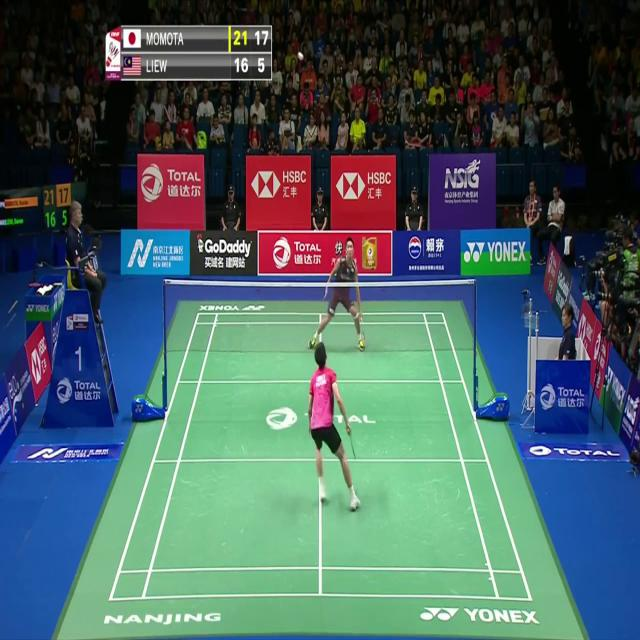Shuttlecock: (297, 48, 303, 60)
